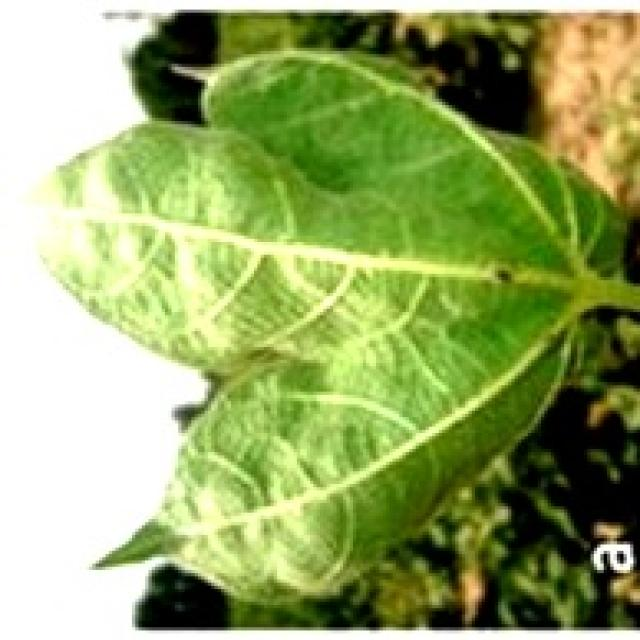Leaf Curl Virus: (134, 140, 507, 432)
